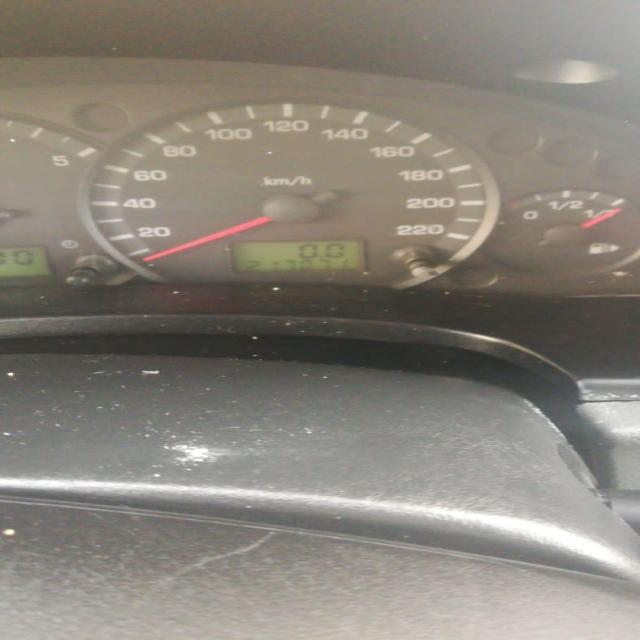odometer: (222, 238, 368, 275)
